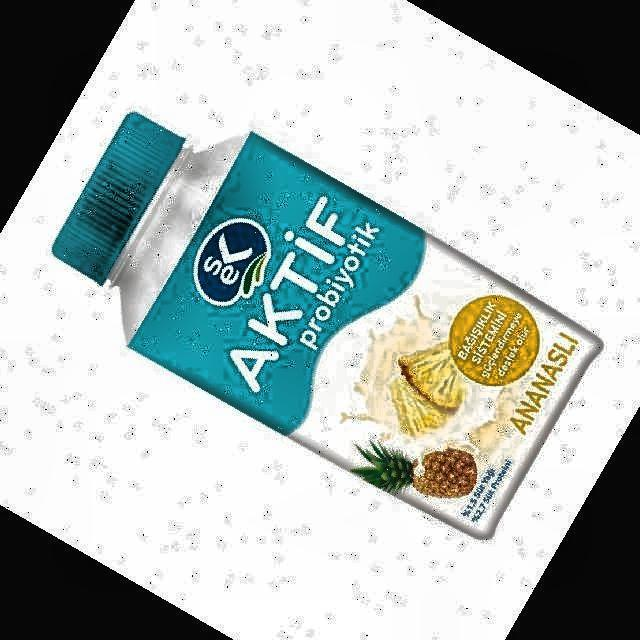plastic: (52, 112, 601, 537)
